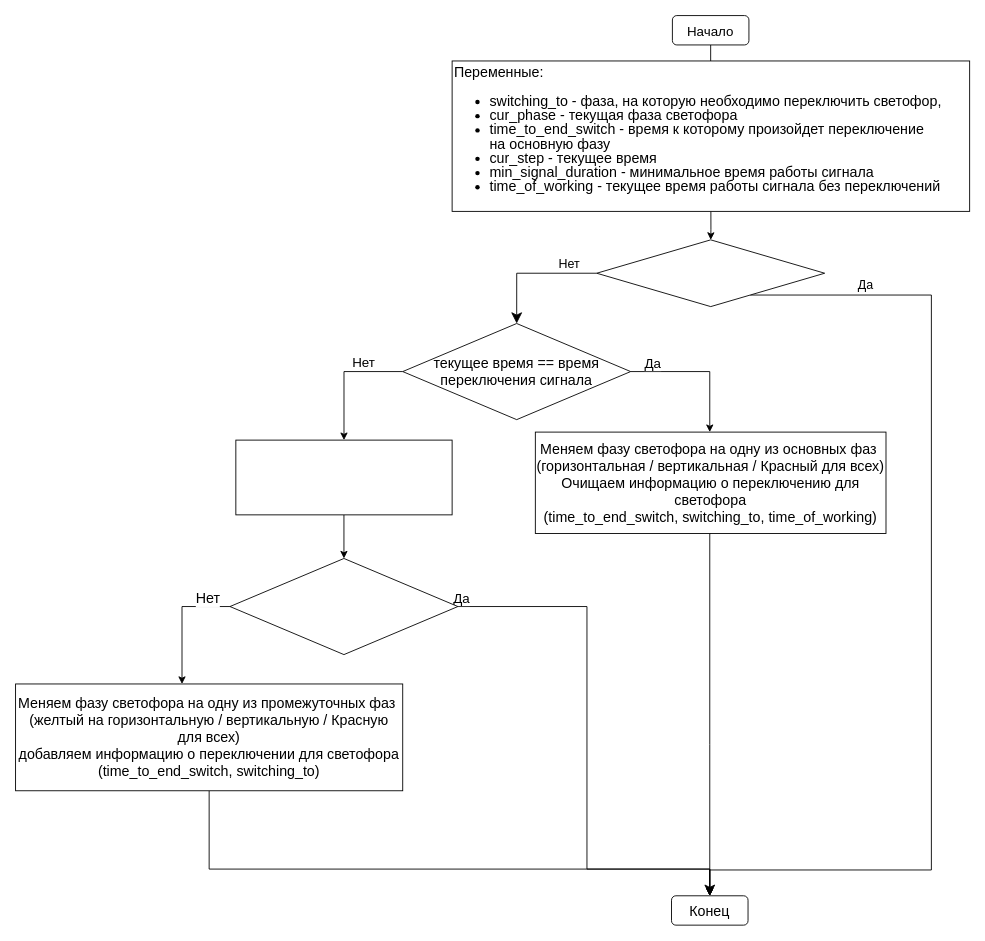
Image size: 985x941. Some labels were removed from this diagram. The shapes that lost their labels are listed below. From the top down, each one's centre as x and y in pixels, then its label:
At point (710, 273): "Есть время окончания переключения сигнала".
At point (343, 477): "Переустанавливаемм текущую фазу светофора. Обновляемм счетчик time_of_working".
At point (343, 606): "минимальное время работы сигнала не прошло".
